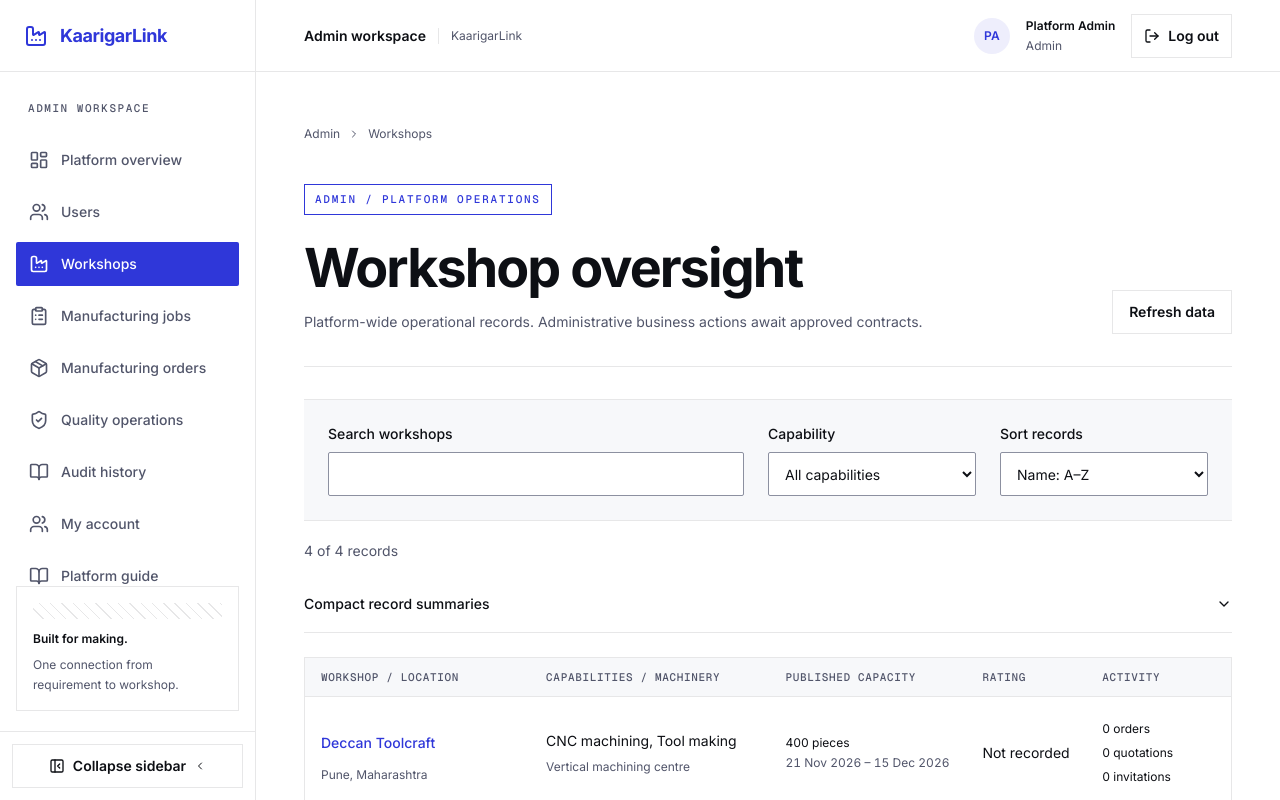
Test: filters workshops by capability and navigates profile, related jobs and orders
Expected: the text "4 of 4 records" is shown, [304,542,398,559]
Select "Sheet metal fabrication" in the dropdown labelled "Capability": {"x": 872, "y": 474} [768,452,976,496]
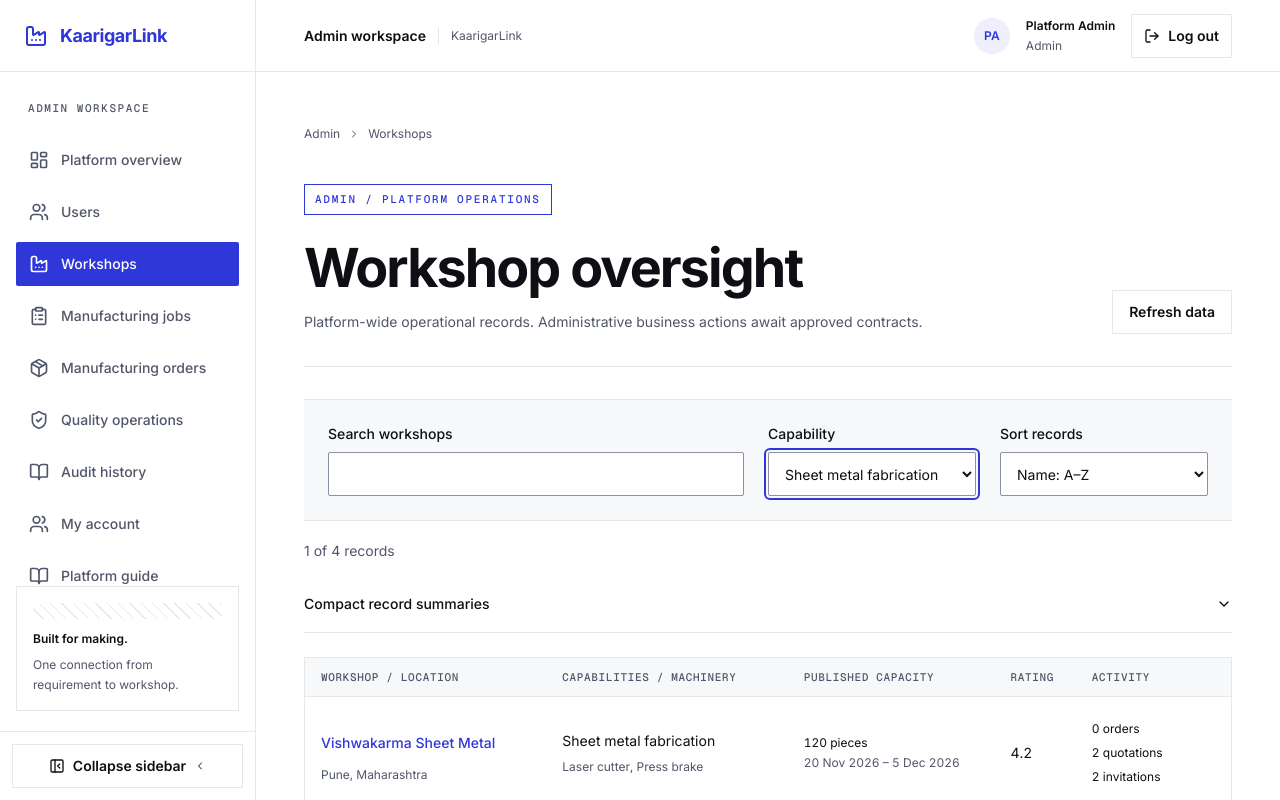
Expected: the text "1 of 4 records" is shown, [304,542,395,559]
Click the link "Vishwakarma Sheet Metal": {"x": 408, "y": 743} [321,734,495,751]
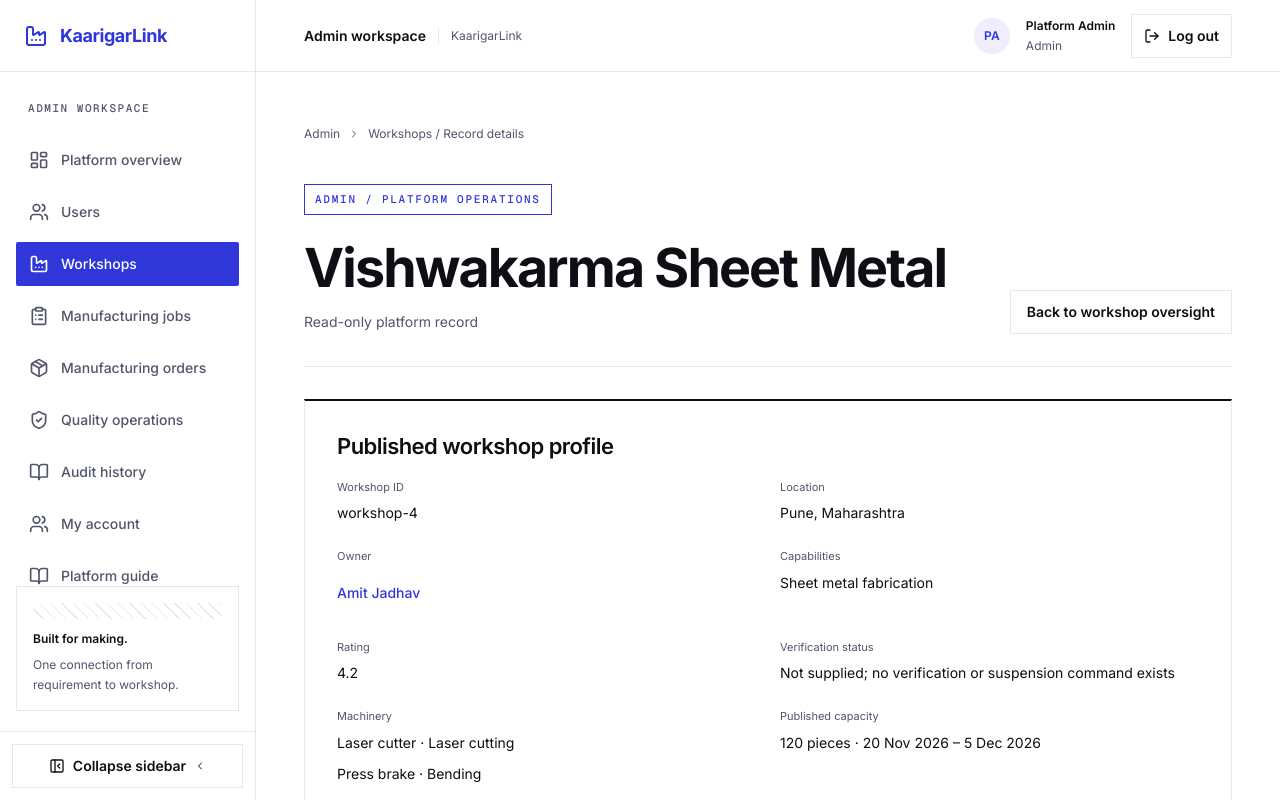
Expected: the heading "Vishwakarma Sheet Metal" is shown, [304,238,946,296]
Expected: the text "Not supplied; no verification or suspension command exists" is shown, [780,662,1199,685]
